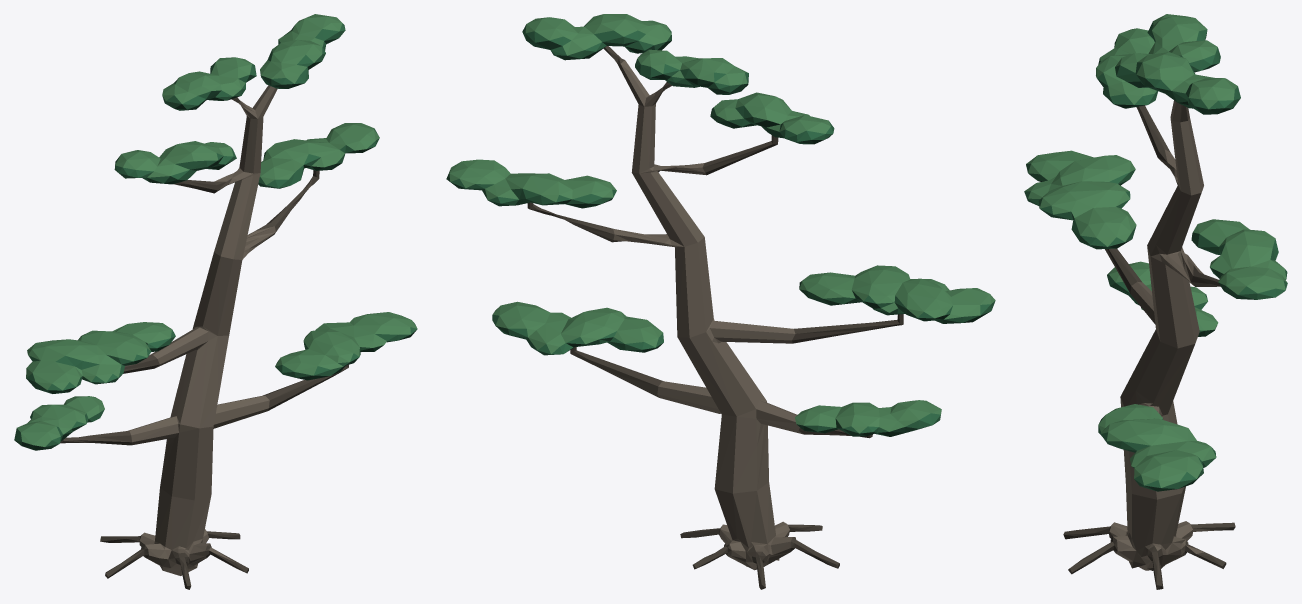
Rendered from ancient-pine-4128-lod1.glb.
The picture shows the model from 3 angles, left to right: view 1: azimuth 30°, elevation 25°; view 2: azimuth 150°, elevation 25°; view 3: azimuth 270°, elevation 25°; orthographic projection. The views are drawn at different scales.
Parts seen in each view (by area): view 1: n12.005, n8.005, n11.005, n9.005, n10.005; view 2: n12.005, n8.005, n11.005, n9.005, n10.005; view 3: n12.005, n8.005, n11.005, n9.005, n10.005.
Part boxes in pixels (left/top/right/bottom): n12.005: left=17, top=14, right=417, bottom=446; n8.005: left=128, top=85, right=277, bottom=575; n11.005: left=14, top=23, right=417, bottom=446; n9.005: left=60, top=97, right=348, bottom=589; n10.005: left=21, top=38, right=416, bottom=450; n12.005: left=449, top=14, right=995, bottom=433; n8.005: left=613, top=60, right=816, bottom=570; n11.005: left=446, top=24, right=995, bottom=433; n9.005: left=527, top=46, right=903, bottom=589; n10.005: left=451, top=40, right=990, bottom=436; n12.005: left=1025, top=14, right=1287, bottom=487; n8.005: left=1086, top=100, right=1216, bottom=570; n11.005: left=1024, top=21, right=1287, bottom=488; n9.005: left=1063, top=105, right=1235, bottom=589; n10.005: left=1024, top=31, right=1284, bottom=491.
Size of the model in its own units: 4.9 by 5.44 by 2.23.
